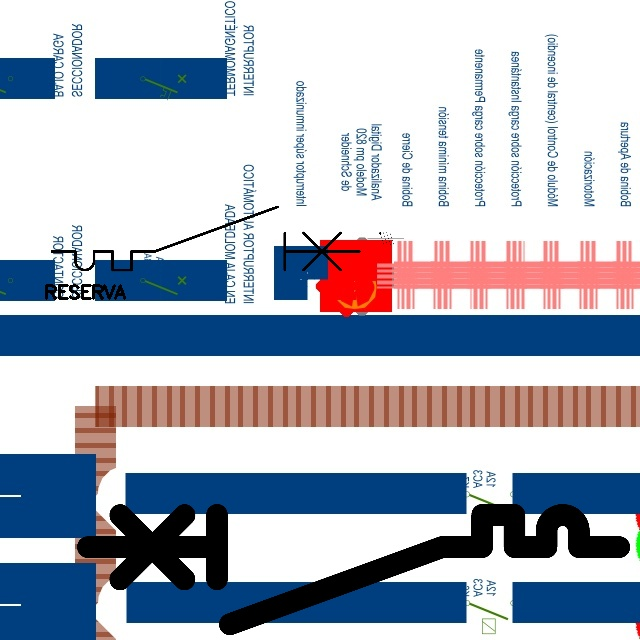interruptor_termomagnetico: (74, 501, 633, 638), (44, 199, 367, 278)
